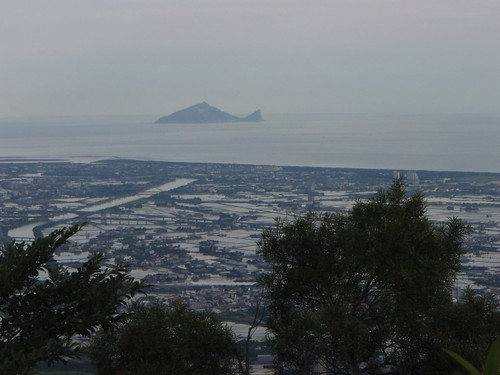turtleIsland: (157, 102, 263, 122)
